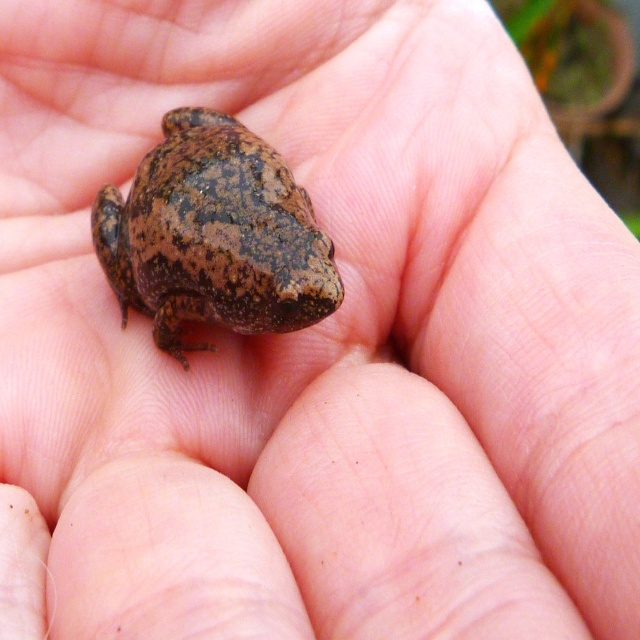Frog: (87, 103, 346, 374)
